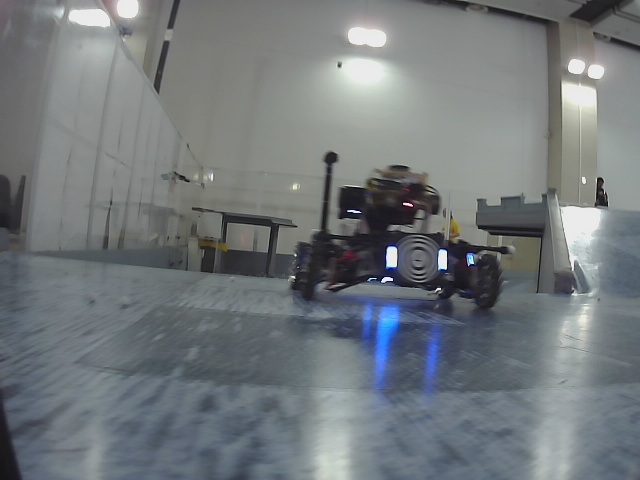lamp: (384, 247, 397, 268), (437, 249, 447, 269)
pair: (385, 246, 448, 270)
